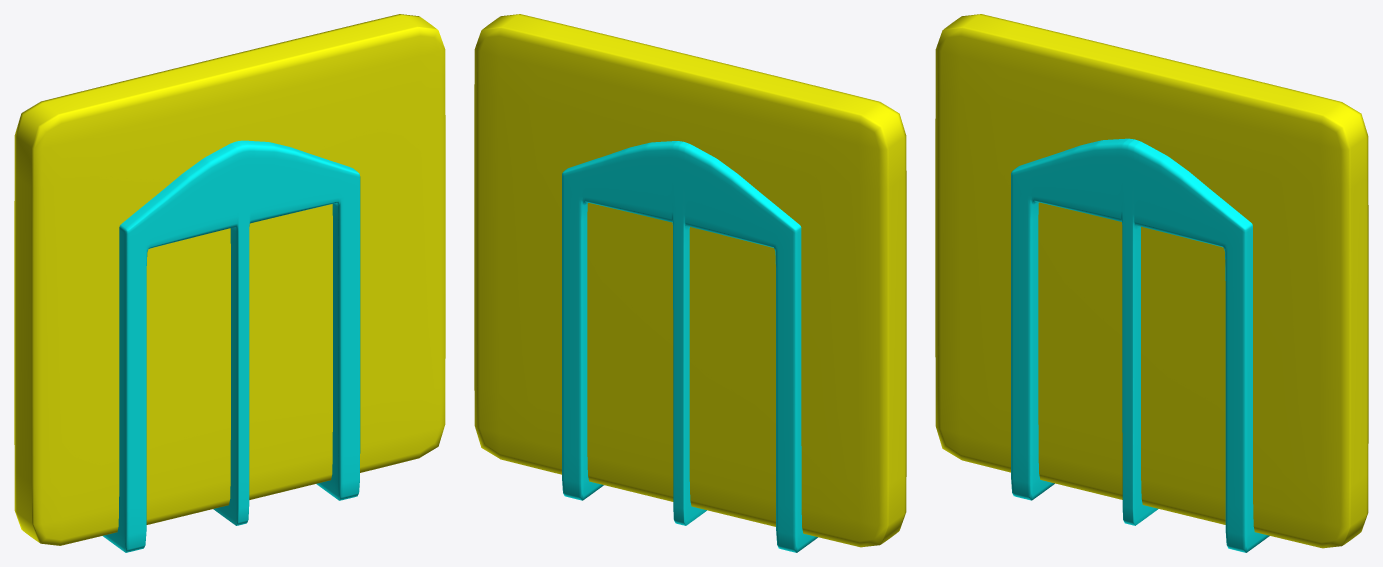
The picture shows the model from 3 angles, left to right: view 1: azimuth 30°, elevation 25°; view 2: azimuth 150°, elevation 25°; view 3: azimuth 330°, elevation 25°; orthographic projection.
Visible parts, largest first — view 1: polySurface988; view 2: polySurface988; view 3: polySurface988.
Boxes of the visible parts, bbox=[...] form: polySurface988: bbox=[14, 14, 445, 552]; polySurface988: bbox=[474, 14, 906, 552]; polySurface988: bbox=[935, 14, 1368, 552].
Bounding box in the file's own units: 0.9994 × 1.04 × 0.1515.
